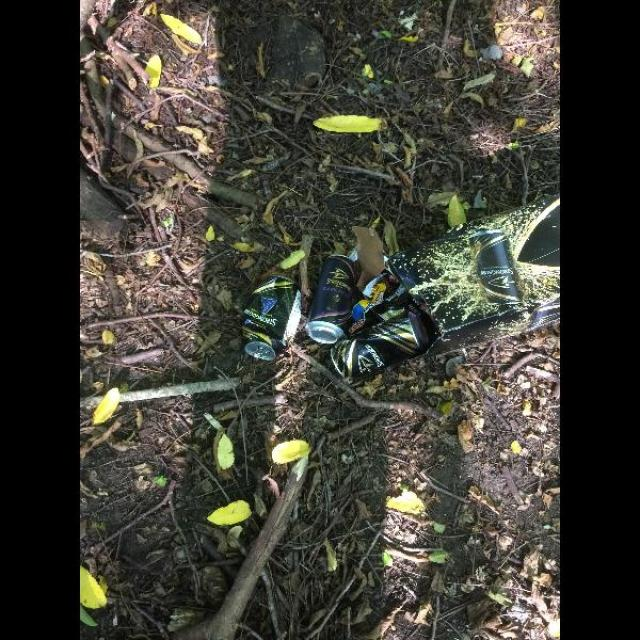dry_waste: (191, 212, 553, 414)
